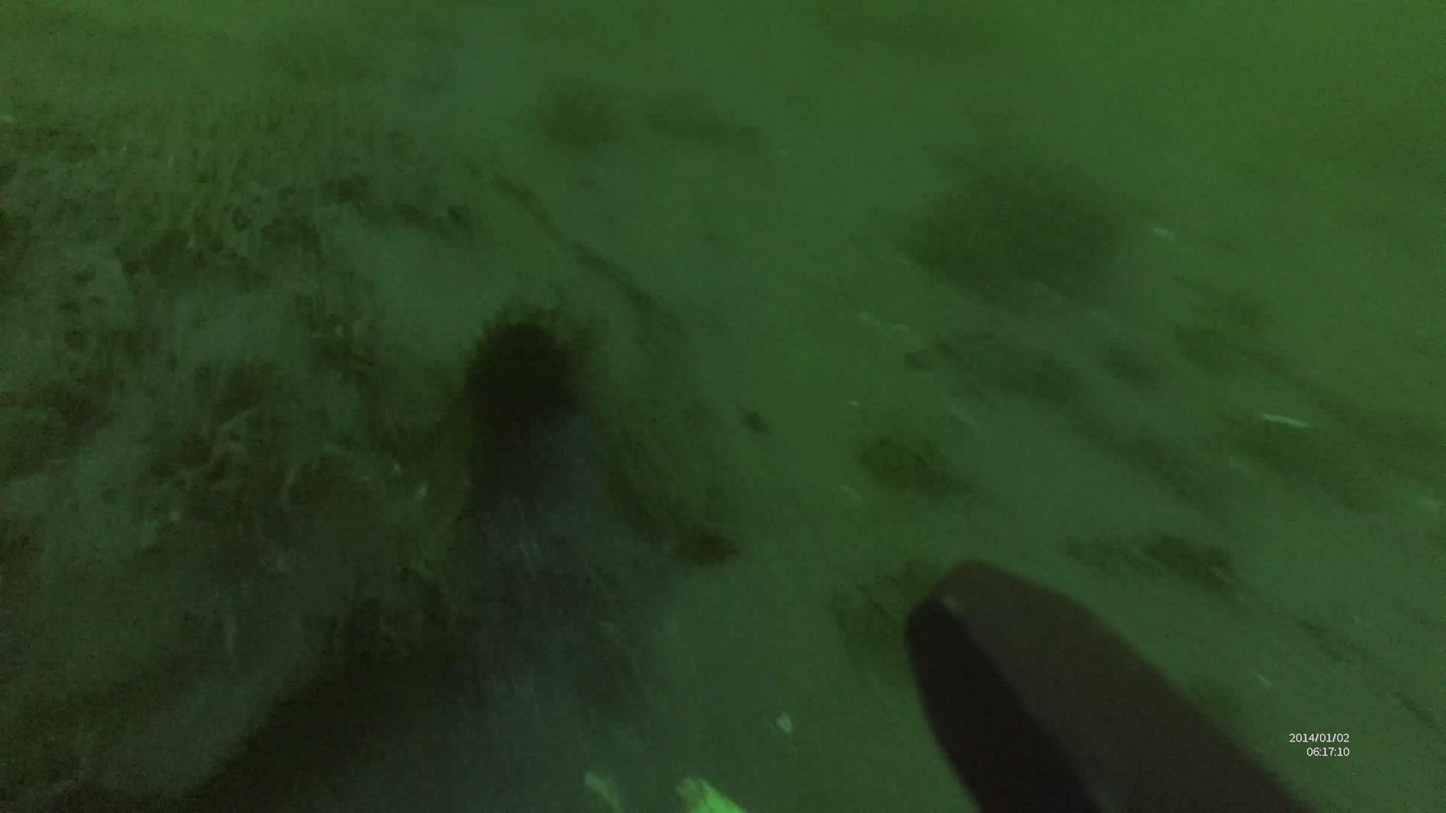starfish: (461, 311, 595, 445)
